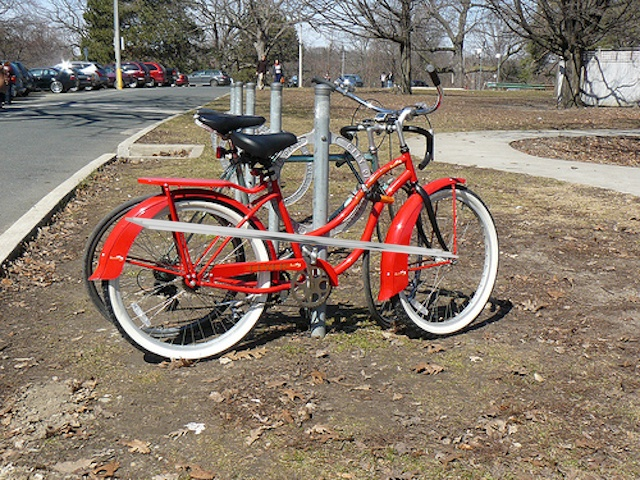ruler: (121, 217, 464, 264)
